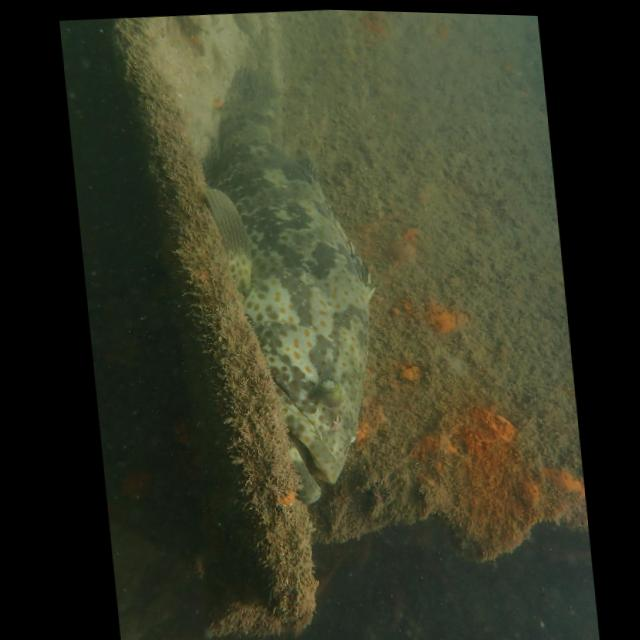Groupers: (190, 57, 392, 509)
